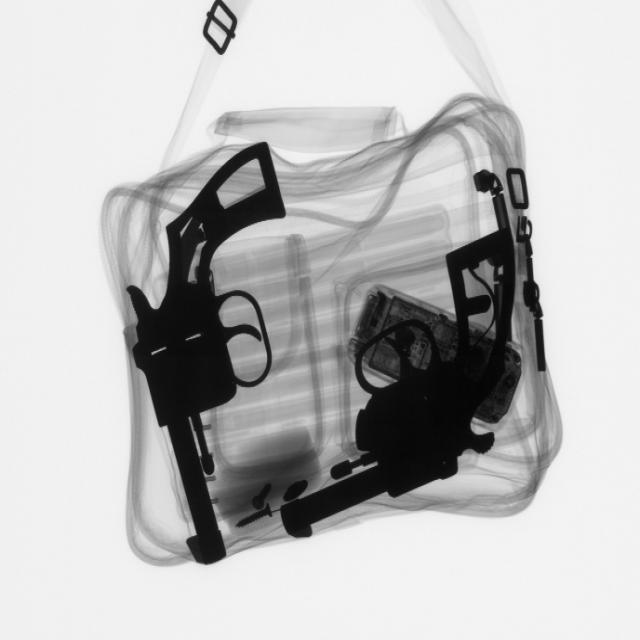GUN: (122, 134, 288, 569), (291, 225, 508, 550)
